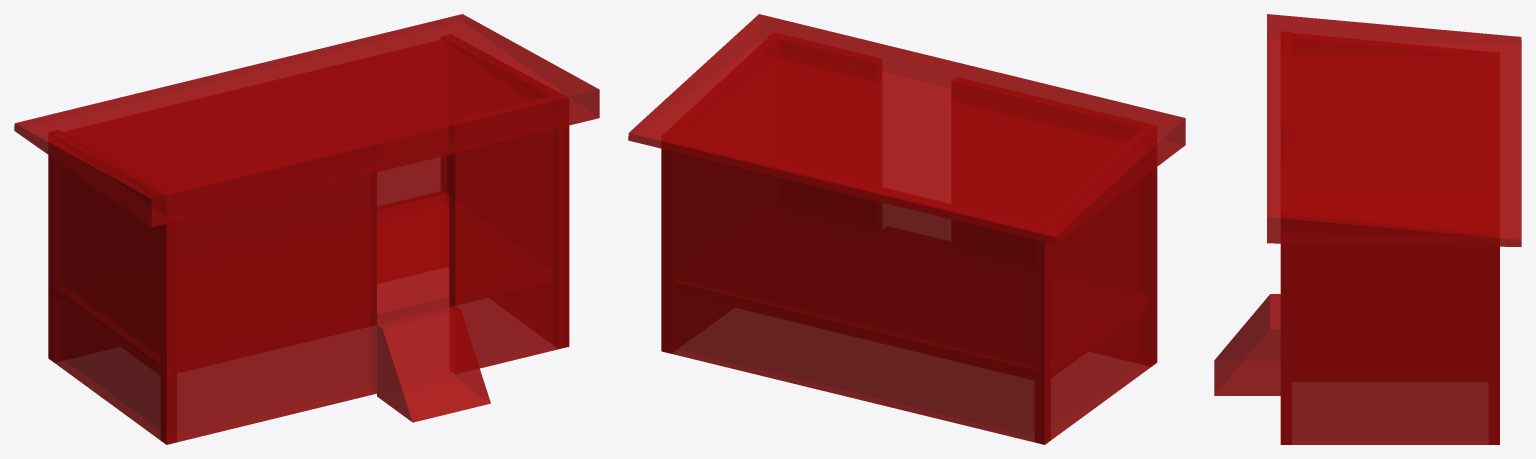
Rendered from SM_Bld_Plywood_Shed_Small_01_Collision.fbx.
The picture shows the model from 3 angles, left to right: view 1: azimuth 30°, elevation 25°; view 2: azimuth 150°, elevation 25°; view 3: azimuth 270°, elevation 25°; orthographic projection. The views are drawn at different scales.
Parts seen in each view (by area): view 1: SM_Bld_Plywood_Shed_Small_01_Collision; view 2: SM_Bld_Plywood_Shed_Small_01_Collision; view 3: SM_Bld_Plywood_Shed_Small_01_Collision.
Boxes of the visible parts, bbox=[...] form: SM_Bld_Plywood_Shed_Small_01_Collision: bbox=[14, 14, 599, 444]; SM_Bld_Plywood_Shed_Small_01_Collision: bbox=[628, 14, 1185, 444]; SM_Bld_Plywood_Shed_Small_01_Collision: bbox=[1214, 14, 1521, 444].
Bounding box in the file's own units: 660 × 366 × 423.
